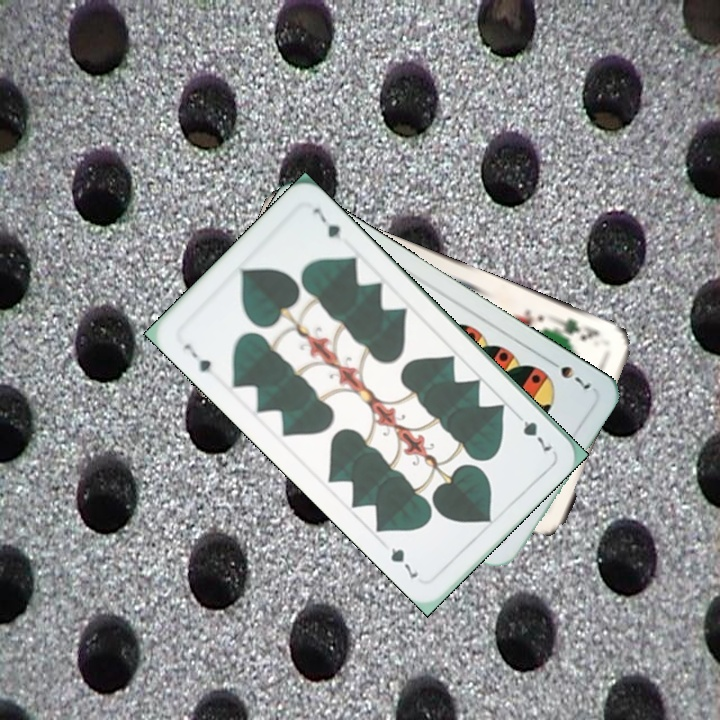G7: (509, 407, 555, 454), (179, 340, 214, 375)
GK: (553, 314, 602, 344)
S7: (543, 354, 594, 396)
